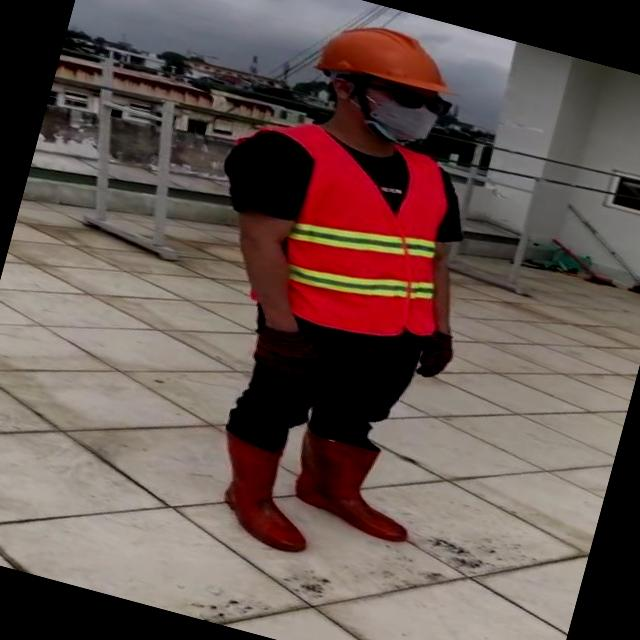boots: (200, 429, 334, 560), (280, 426, 428, 544)
gloves: (396, 304, 509, 401), (218, 310, 328, 394)
helmet: (308, 10, 462, 106)
vest: (254, 120, 476, 354)
